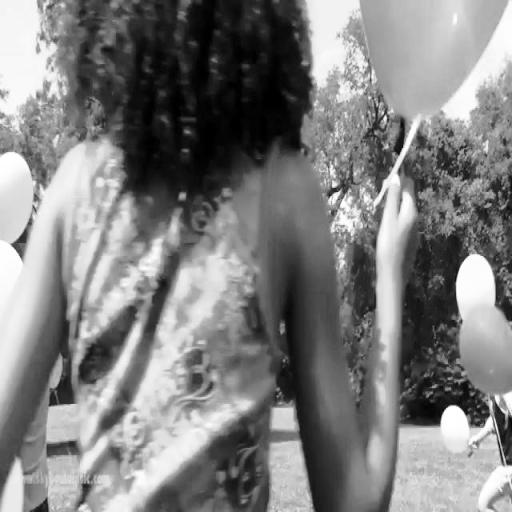balloon: (359, 0, 511, 126), (458, 306, 512, 398), (0, 150, 32, 240), (456, 258, 496, 322), (0, 238, 20, 360), (0, 453, 21, 512), (442, 406, 470, 450), (46, 354, 64, 387)
